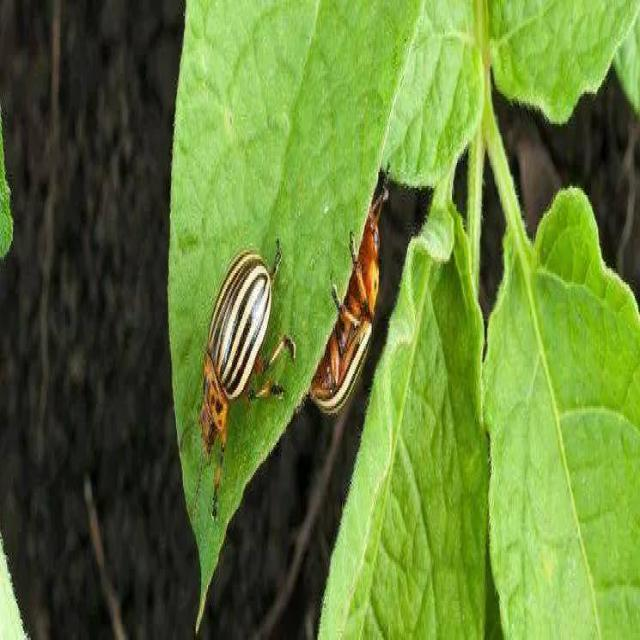ShuCaiHuaBanChong-Grown-: (190, 236, 288, 456), (320, 191, 387, 427)
